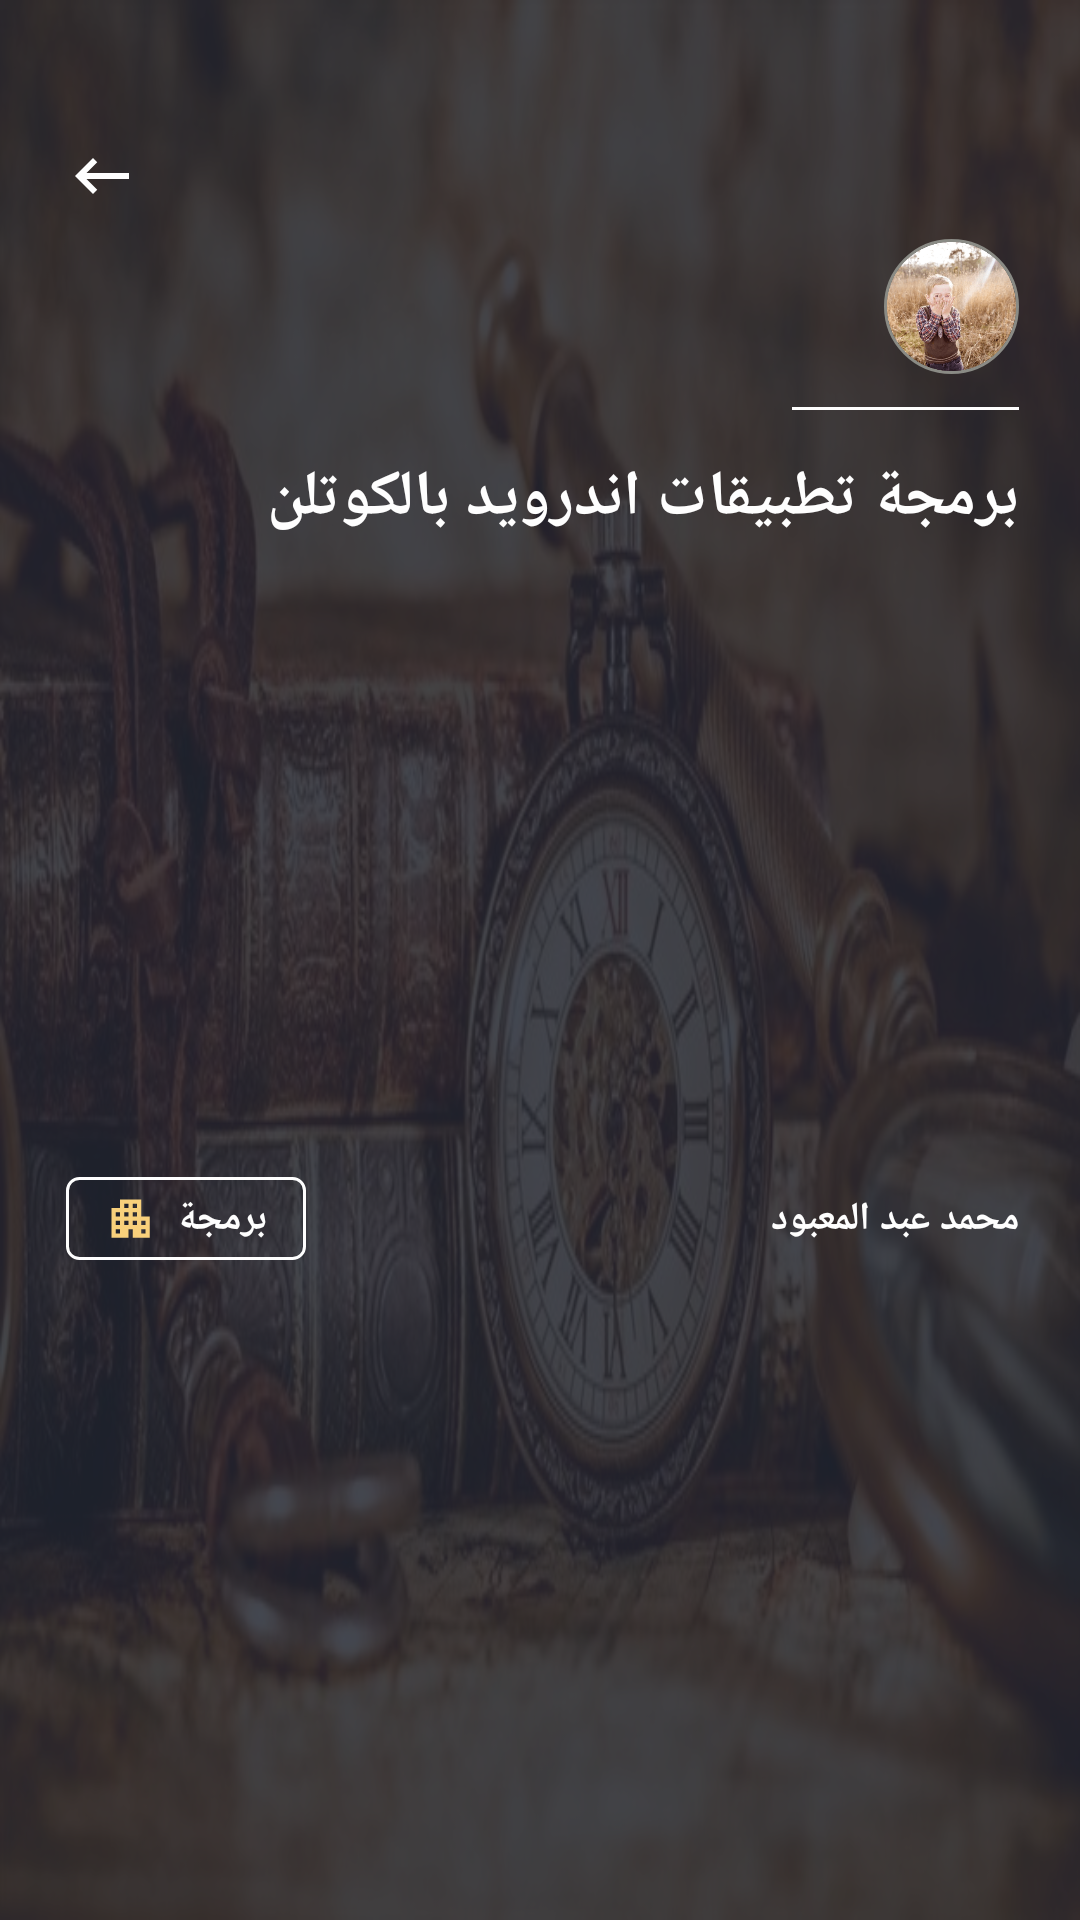

Screen size 1080 × 1920. Icon name, then its box in pixels as {"x1": x1, "y1": y1, "x2": x2, "y2": y2}:
العودة للخلف: {"x1": 75, "y1": 158, "x2": 129, "y2": 194}
